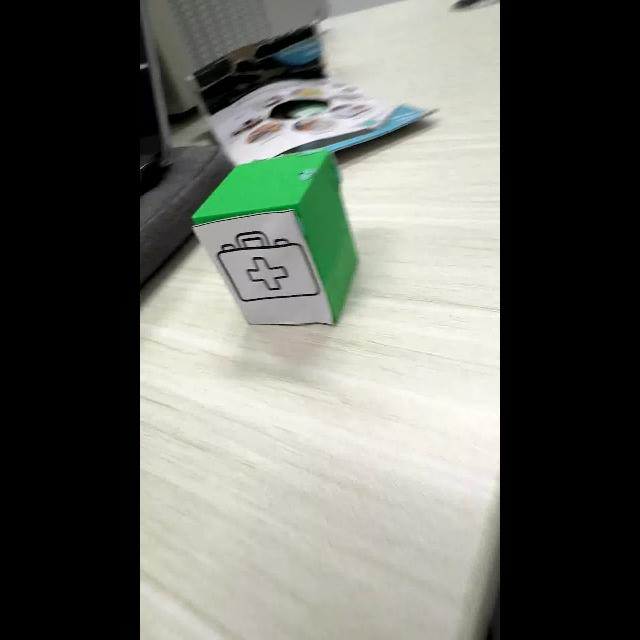Medkit: (215, 230, 321, 306)
